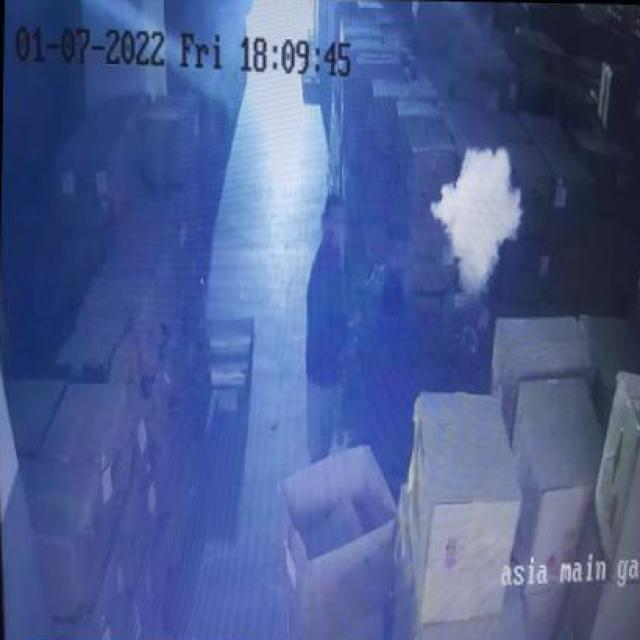fire: (427, 137, 524, 306)
